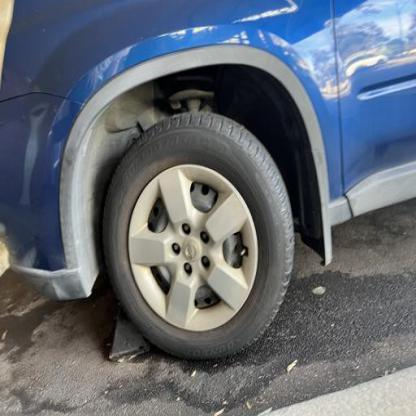Tire: (102, 108, 296, 362)
